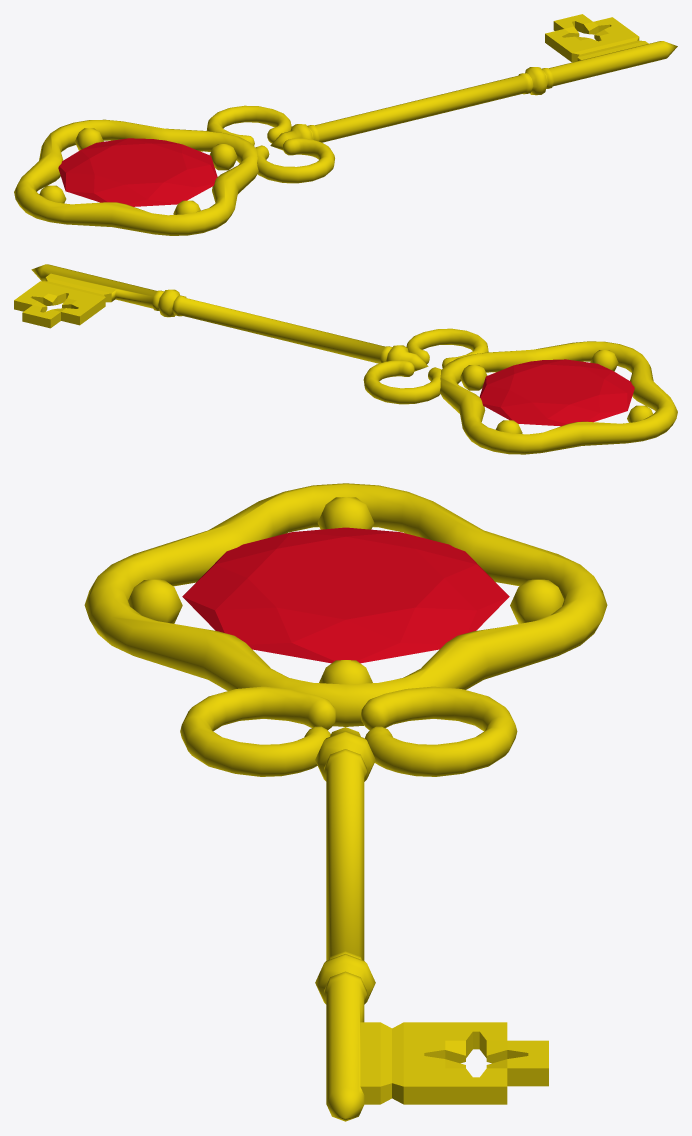
Rendered from key_b002_1ft.fbx.
3 views of the same model, one above another, from view 1: azimuth 30°, elevation 25°; view 2: azimuth 150°, elevation 25°; view 3: azimuth 270°, elevation 25° (orthographic). The views are drawn at different scales.
Parts seen in each view (by area): view 1: key; view 2: key; view 3: key.
Boxes of the visible parts, x1,y1,x2,y2 form: key: (14, 14, 677, 235); key: (14, 264, 677, 454); key: (84, 483, 607, 1121).
Size of the model in its own units: 27.7 by 1.27 by 9.81.
